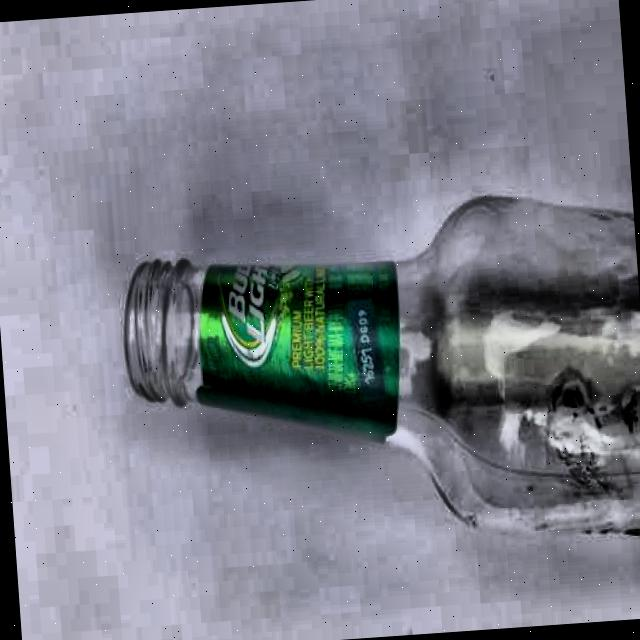glass: (116, 176, 640, 586)
